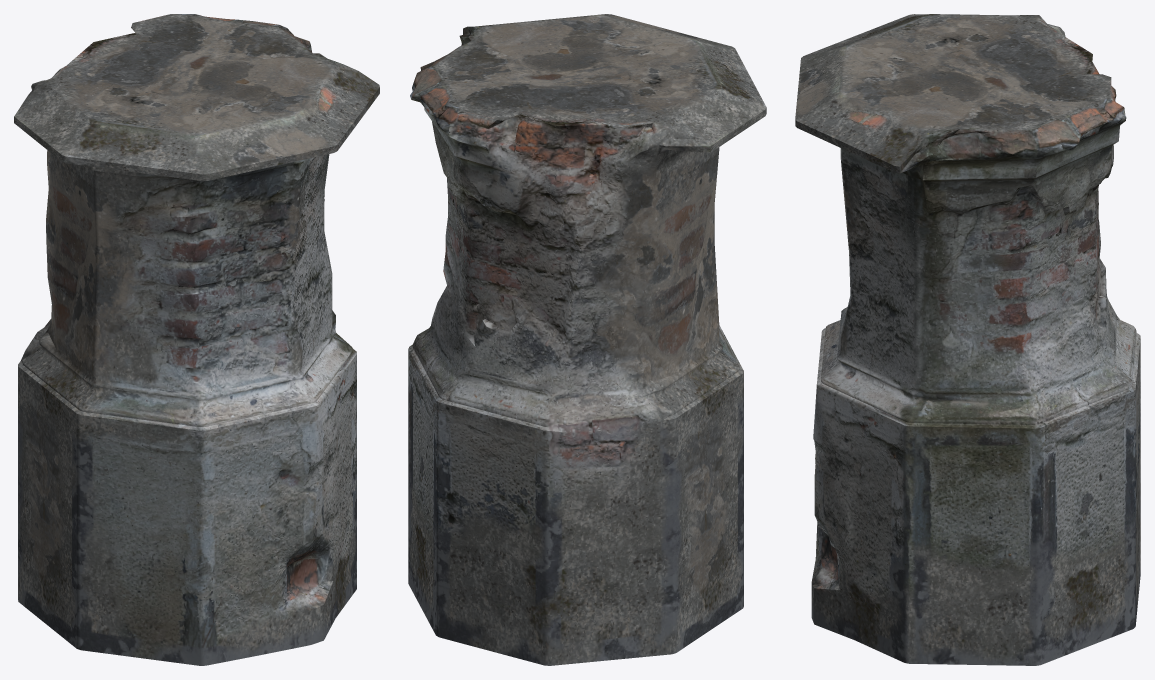
Rendered from SM_ChapelColumnPedestal_01_02.fbx.
3 renders of one model, left to right at view 1: azimuth 30°, elevation 25°; view 2: azimuth 150°, elevation 25°; view 3: azimuth 270°, elevation 25°, orthographic.
Visible parts, largest first — view 1: sm_ChapelColumnPedestal_01_02_LOD0; view 2: sm_ChapelColumnPedestal_01_02_LOD0; view 3: sm_ChapelColumnPedestal_01_02_LOD0.
Boxes of the visible parts, bbox=[...] form: sm_ChapelColumnPedestal_01_02_LOD0: bbox=[14, 14, 379, 665]; sm_ChapelColumnPedestal_01_02_LOD0: bbox=[408, 14, 766, 665]; sm_ChapelColumnPedestal_01_02_LOD0: bbox=[795, 14, 1140, 665].
Bounding box in the file's own units: 121 × 126 × 203.
